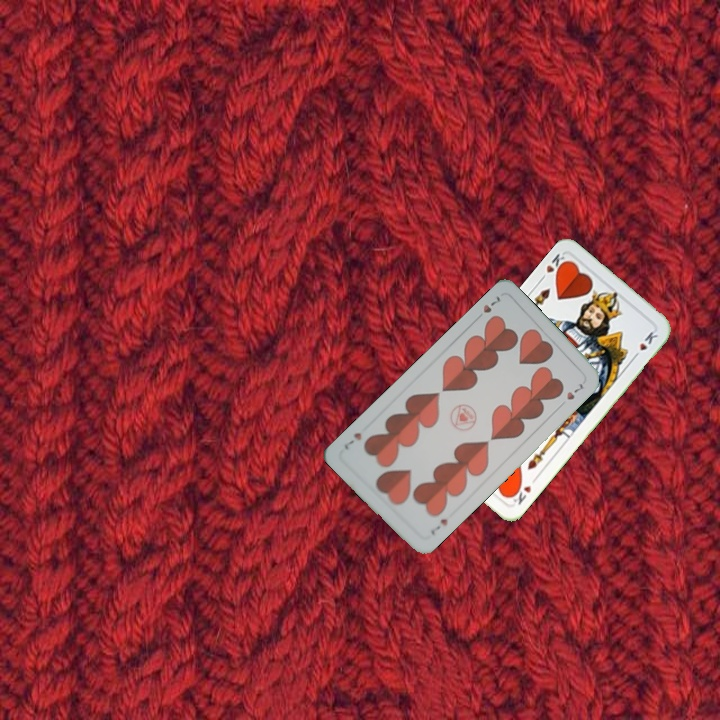H7: (471, 292, 504, 323), (427, 514, 450, 538)
HK: (536, 249, 571, 284), (507, 480, 534, 507)
